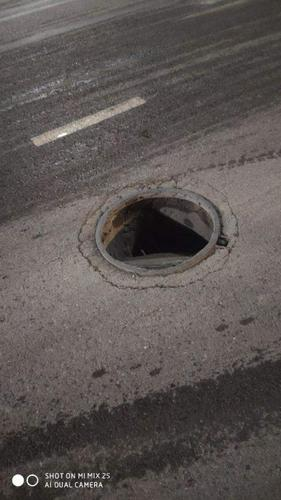lose: (69, 175, 241, 293)
